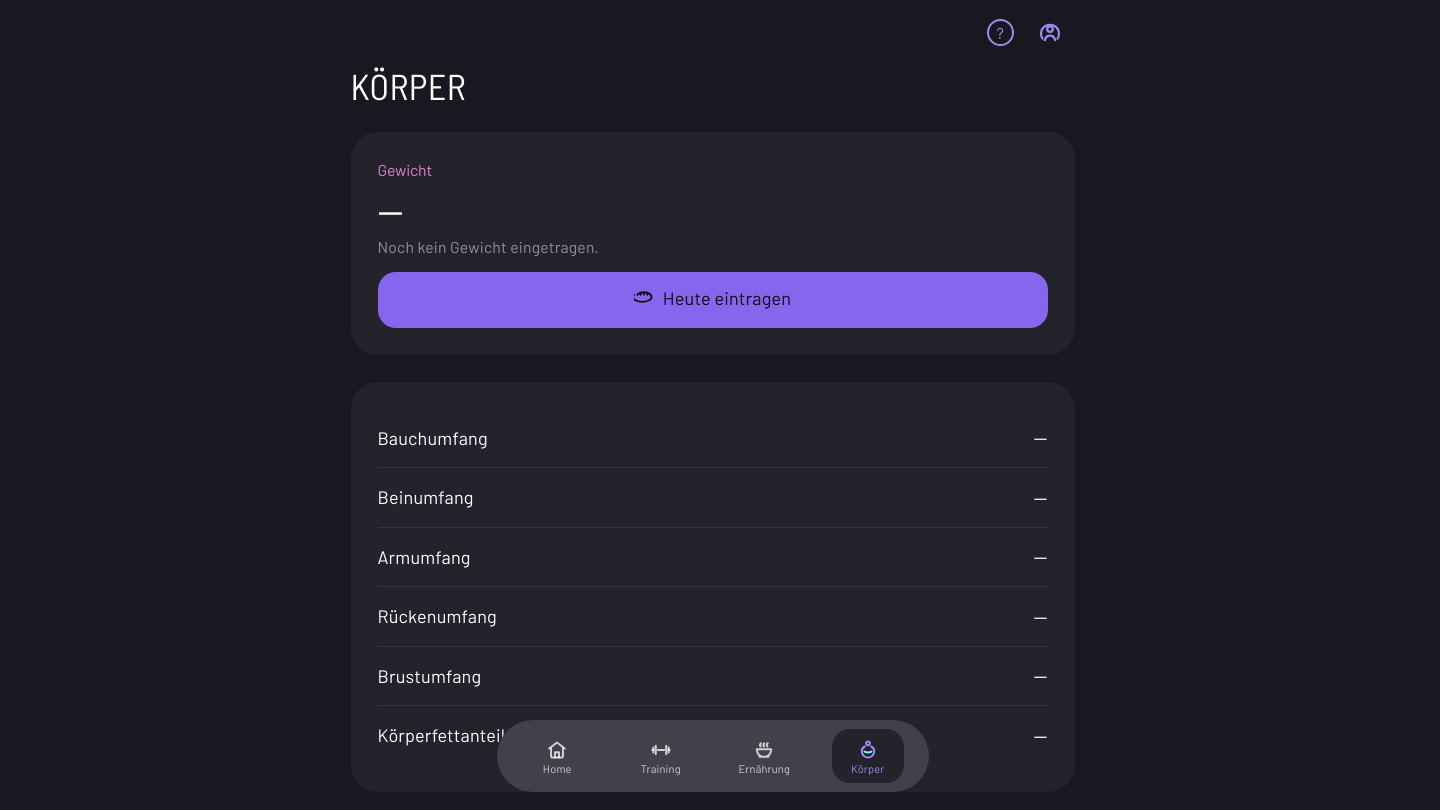
Test: App routing › shows the stale-mirror notice at /body when only the profile sync fails
Click the button "Heute eintragen" at (712, 300), box [378,272,1048,328]
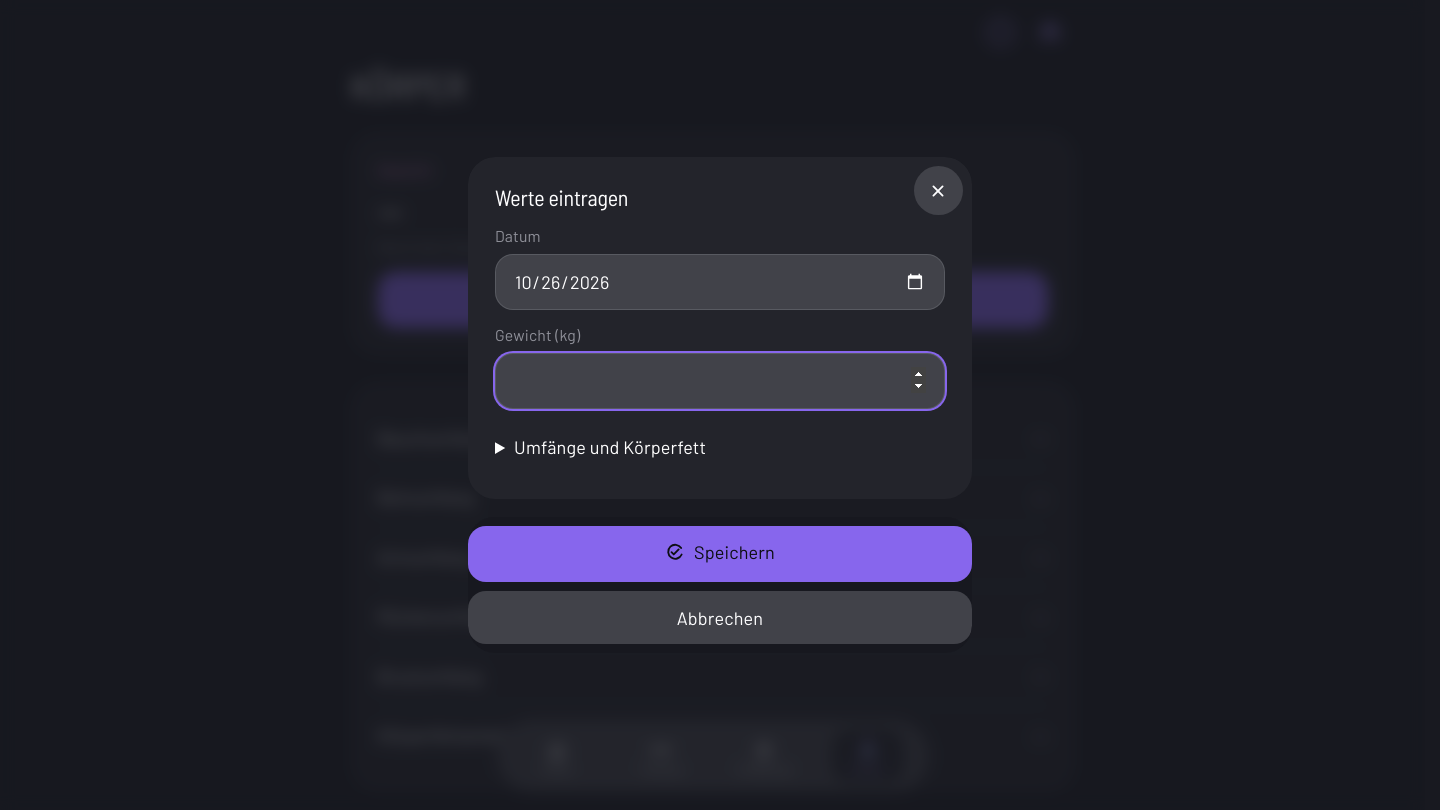
Type "80" into the number field labelled "Gewicht (kg)" at (720, 381), box [495,353,945,409]
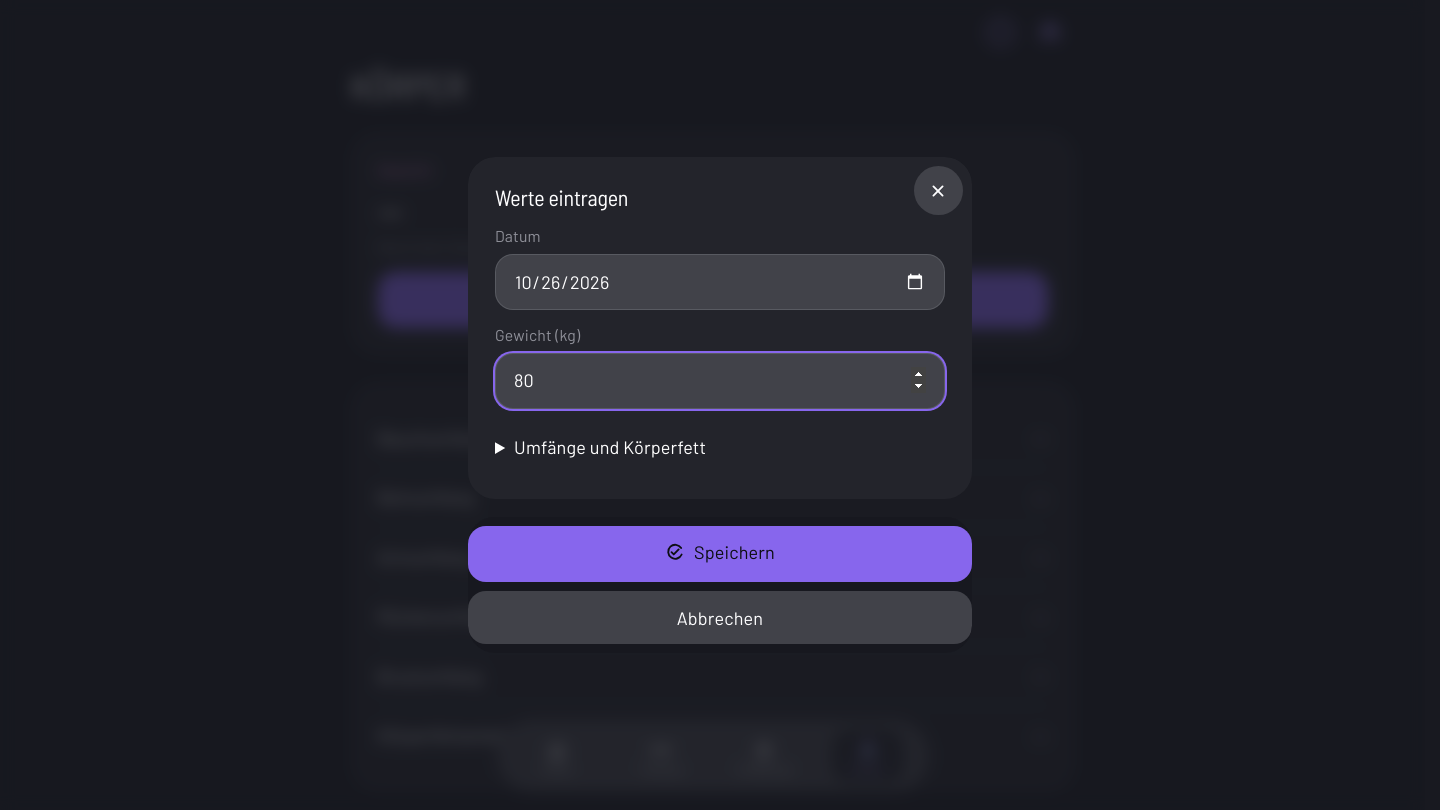
Click the button "Speichern" at (720, 554), box [468,526,972,582]
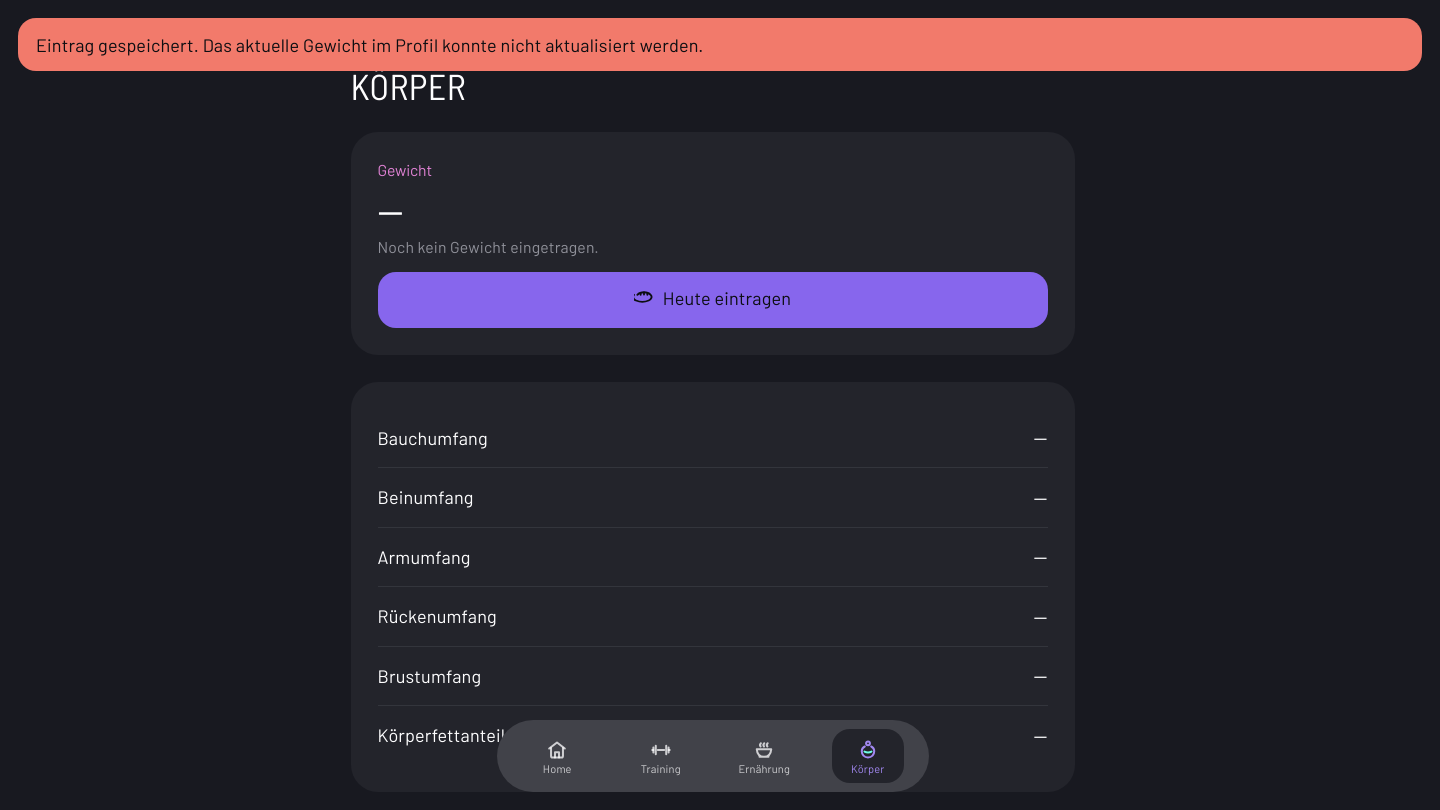
expect the message shows "aktuelle Gewicht im Profil konnte nicht aktualisiert werden": met, box [36,34,703,56]
